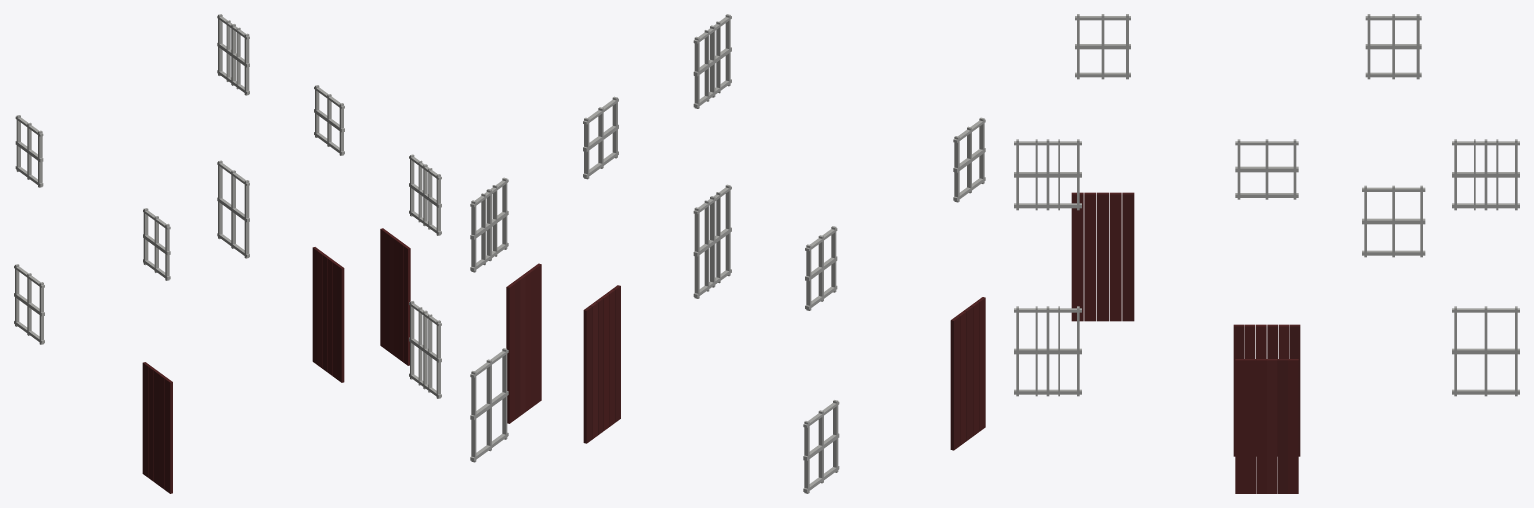
Rendered from SM_Bld_194_Wood.glb.
3 views of the same model, side by side, from view 1: azimuth 30°, elevation 25°; view 2: azimuth 150°, elevation 25°; view 3: azimuth 270°, elevation 25° (orthographic). The views are drawn at different scales.
Visible parts, largest first — view 1: SM_Bld_194_Wood; view 2: SM_Bld_194_Wood; view 3: SM_Bld_194_Wood.
Part boxes in pixels (bbox=[...]): SM_Bld_194_Wood: bbox=[14, 14, 441, 493]; SM_Bld_194_Wood: bbox=[470, 14, 985, 493]; SM_Bld_194_Wood: bbox=[1014, 14, 1519, 493].
Size of the model in its own units: 5.89 by 4.97 by 7.21.
